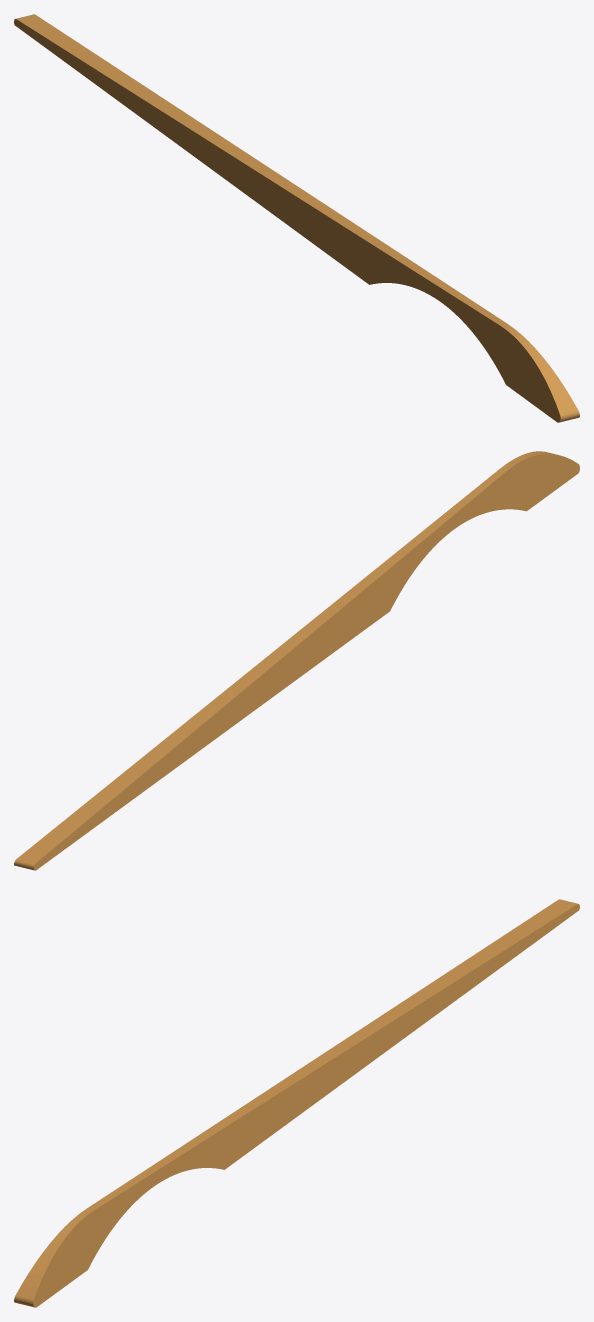
File: 191 pvd gold.glb
3 renders of one model, top to bottom at view 1: azimuth 30°, elevation 25°; view 2: azimuth 150°, elevation 25°; view 3: azimuth 330°, elevation 25°, orthographic.
Visible parts, largest first — view 1: CABINET_HANDLE_191; view 2: CABINET_HANDLE_191; view 3: CABINET_HANDLE_191.
Boxes of the visible parts, bbox=[...] form: CABINET_HANDLE_191: bbox=[14, 14, 579, 422]; CABINET_HANDLE_191: bbox=[14, 451, 579, 870]; CABINET_HANDLE_191: bbox=[14, 899, 579, 1307].
Size of the model in its own units: 0.00766 by 0.0172 by 0.35.
